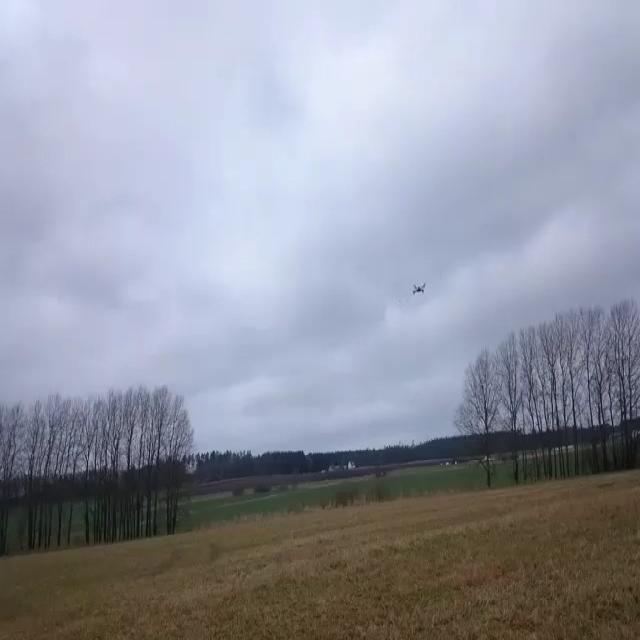drone: (413, 282, 426, 294)
